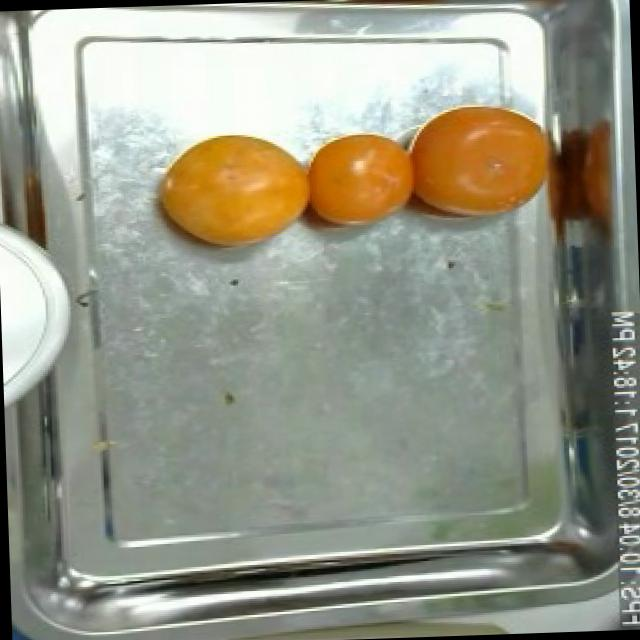Fruit: (140, 116, 322, 264), (389, 94, 558, 234), (288, 123, 416, 243)
